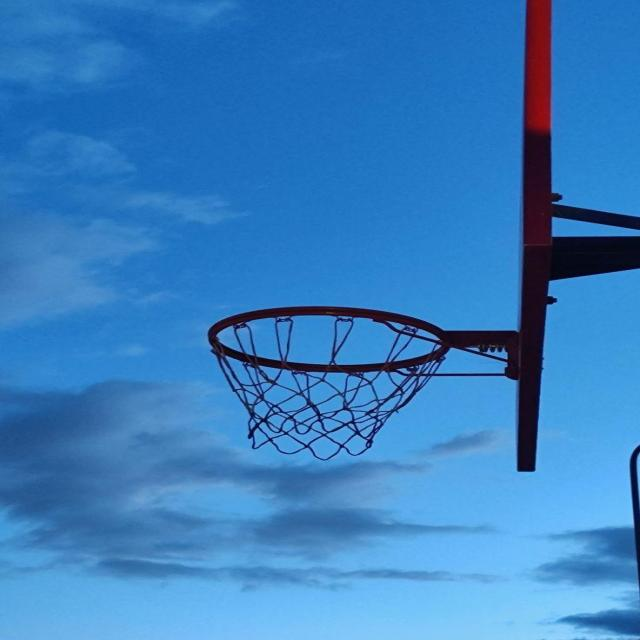hoop: (200, 299, 506, 484)
